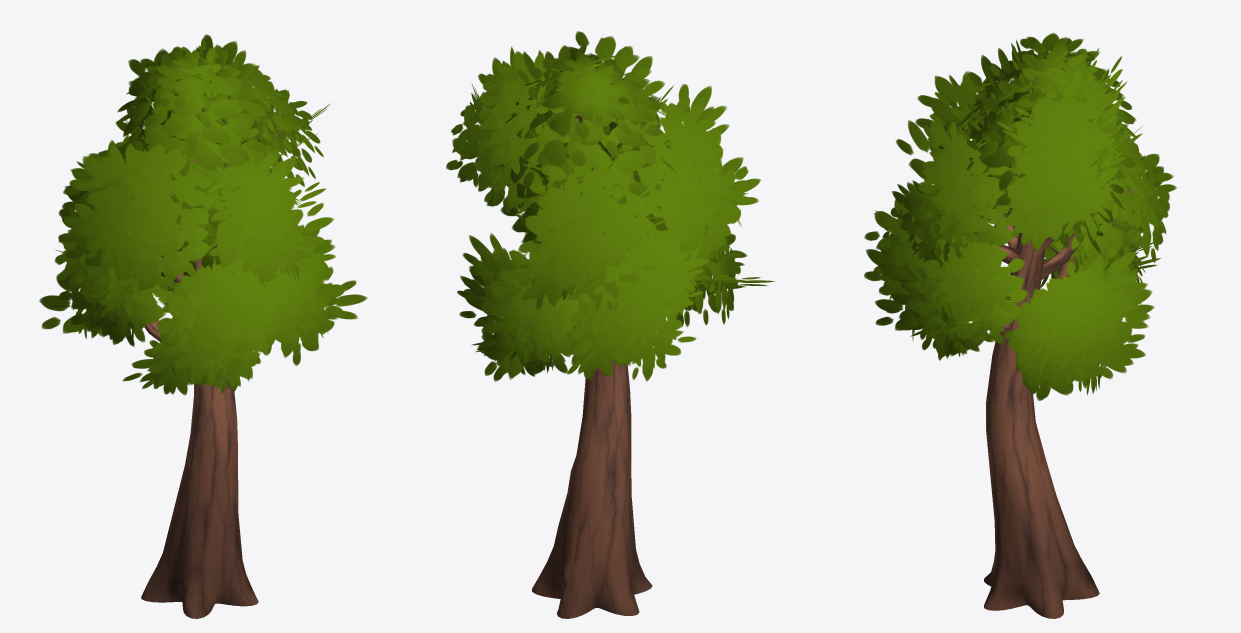
File: broad1.glb
3 renders of one model, left to right at view 1: azimuth 30°, elevation 25°; view 2: azimuth 150°, elevation 25°; view 3: azimuth 270°, elevation 25°, orthographic. The views are drawn at different scales.
Parts seen in each view (by area): view 1: CommonTree_1; view 2: CommonTree_1; view 3: CommonTree_1.
Boxes of the visible parts, left/top/right/bottom form: CommonTree_1: left=39, top=34, right=367, bottom=618; CommonTree_1: left=446, top=31, right=774, bottom=618; CommonTree_1: left=864, top=33, right=1176, bottom=618.
Size of the model in its own units: 4.31 by 7.26 by 4.58.
Materials: 2 (2 with a texture image).
